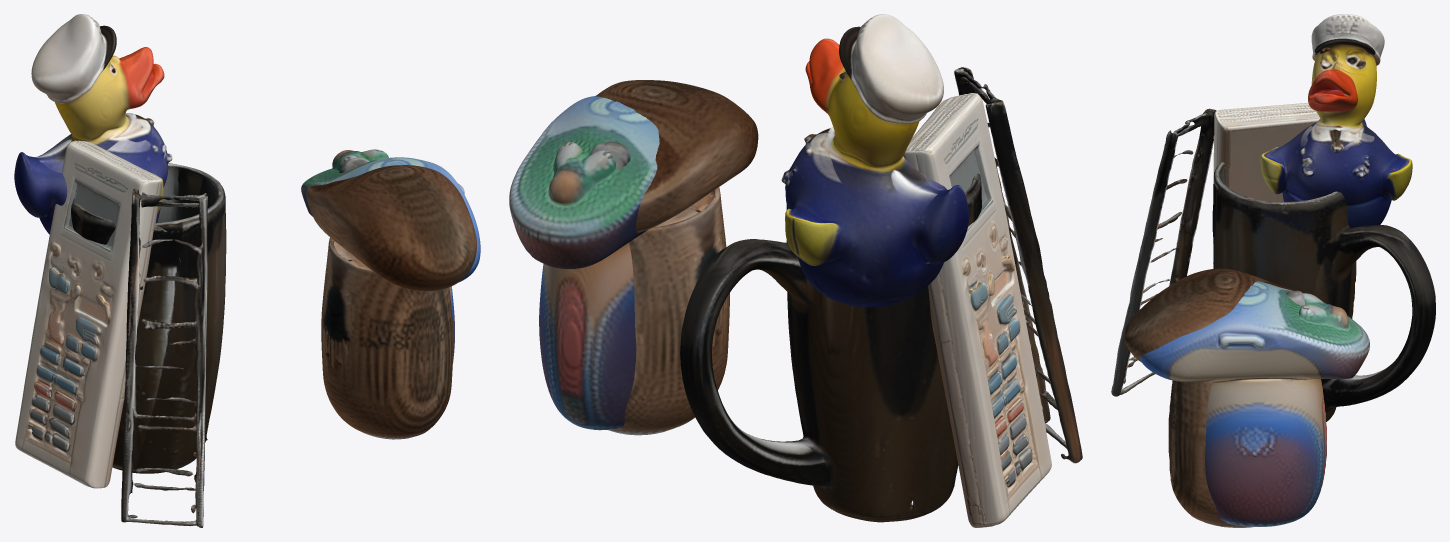
Rendered from midi_textured.glb.
The picture shows the model from 3 angles, left to right: view 1: azimuth 30°, elevation 25°; view 2: azimuth 150°, elevation 25°; view 3: azimuth 270°, elevation 25°; orthographic projection. The views are drawn at different scales.
Parts seen in each view (by area): view 1: geometry_08ff472dbb9ae, geometry_04af00fb82c44, geometry_0, geometry_0ddee398d201f, geometry_098d20f1bee3f; view 2: geometry_0, geometry_0ddee398d201f, geometry_098d20f1bee3f, geometry_04af00fb82c44, geometry_08ff472dbb9ae; view 3: geometry_098d20f1bee3f, geometry_0, geometry_0ddee398d201f, geometry_08ff472dbb9ae, geometry_04af00fb82c44.
Boxes of the visible parts, box(x1,y1,x2,y2) form: geometry_08ff472dbb9ae: box(305, 157, 476, 439); geometry_04af00fb82c44: box(15, 140, 162, 488); geometry_0: box(71, 163, 226, 527); geometry_0ddee398d201f: box(14, 14, 172, 234); geometry_098d20f1bee3f: box(301, 149, 480, 364); geometry_0: box(680, 67, 1082, 522); geometry_0ddee398d201f: box(781, 14, 969, 307); geometry_098d20f1bee3f: box(509, 96, 659, 430); geometry_04af00fb82c44: box(903, 93, 1051, 527); geometry_08ff472dbb9ae: box(589, 80, 758, 435); geometry_098d20f1bee3f: box(1140, 281, 1369, 526); geometry_0: box(1111, 108, 1435, 421); geometry_0ddee398d201f: box(1260, 14, 1412, 227); geometry_08ff472dbb9ae: box(1124, 268, 1304, 527); geometry_04af00fb82c44: box(1213, 103, 1319, 268).
Size of the model in its own units: 1.89 by 1.91 by 1.43.
Materials: 5 (5 with a texture image).
